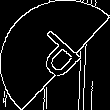P_SE: (23, 24, 87, 86)
